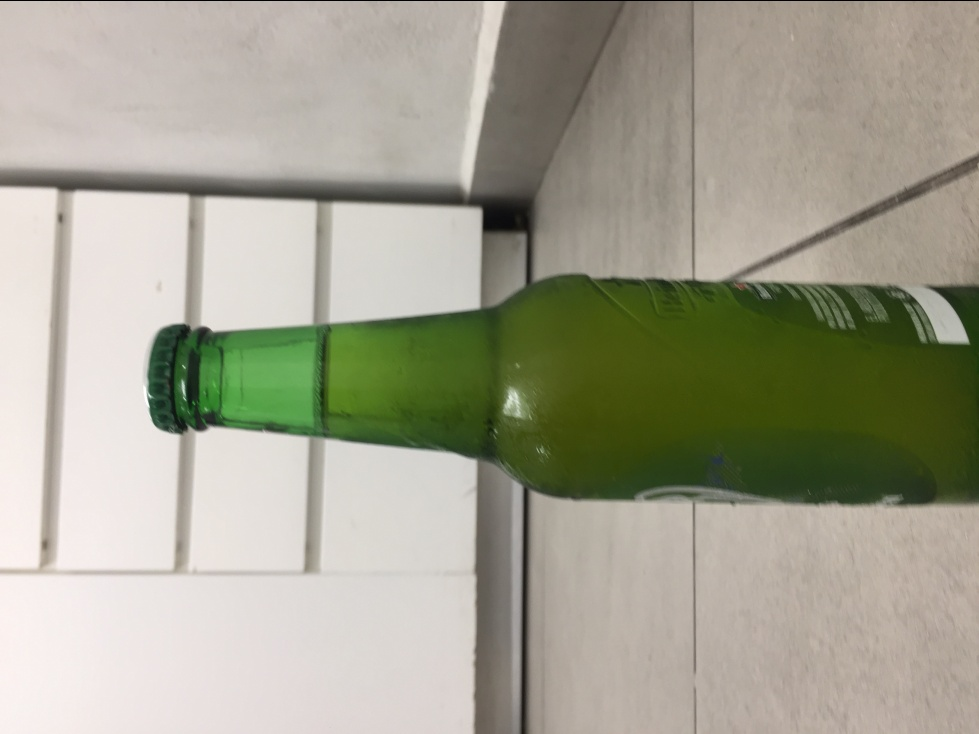heineken: (138, 270, 978, 509)
